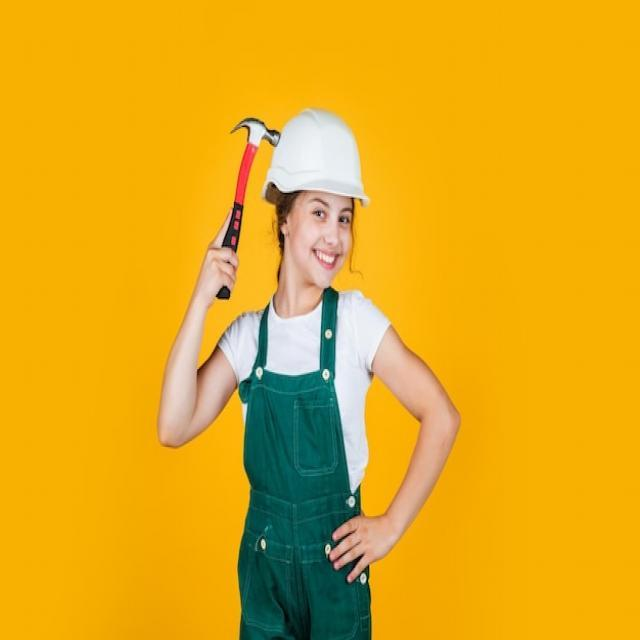hammer: (198, 106, 286, 316)
